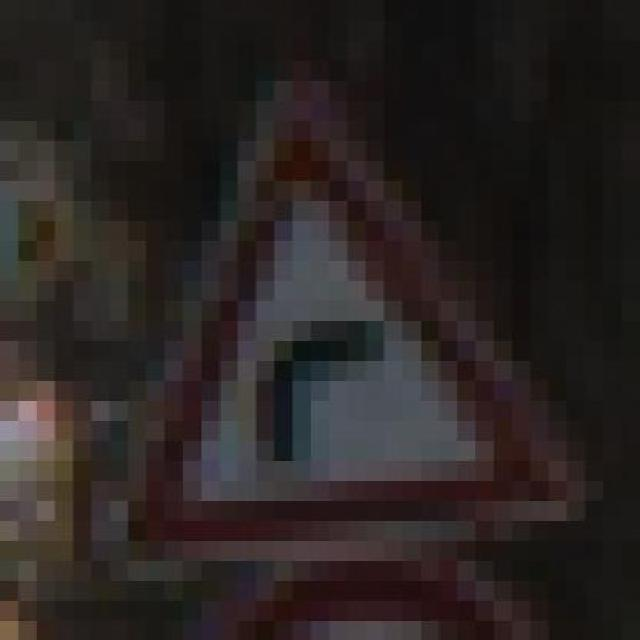Dangerous Rright Curve Ahead: (110, 100, 585, 560)
